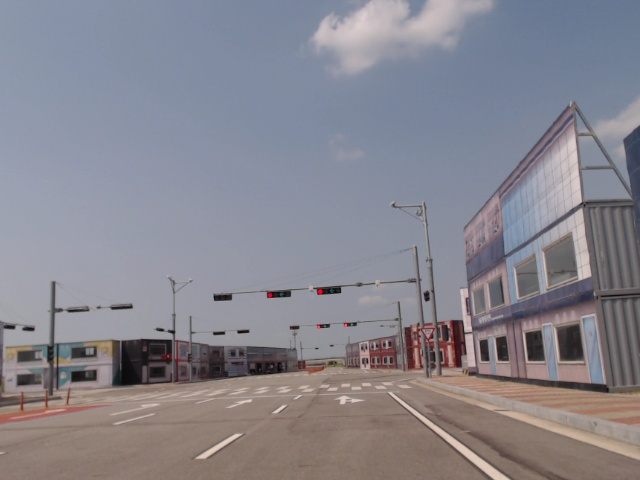left_green_4: (267, 291, 291, 298), (317, 288, 341, 294), (345, 322, 356, 327), (317, 324, 330, 328)
